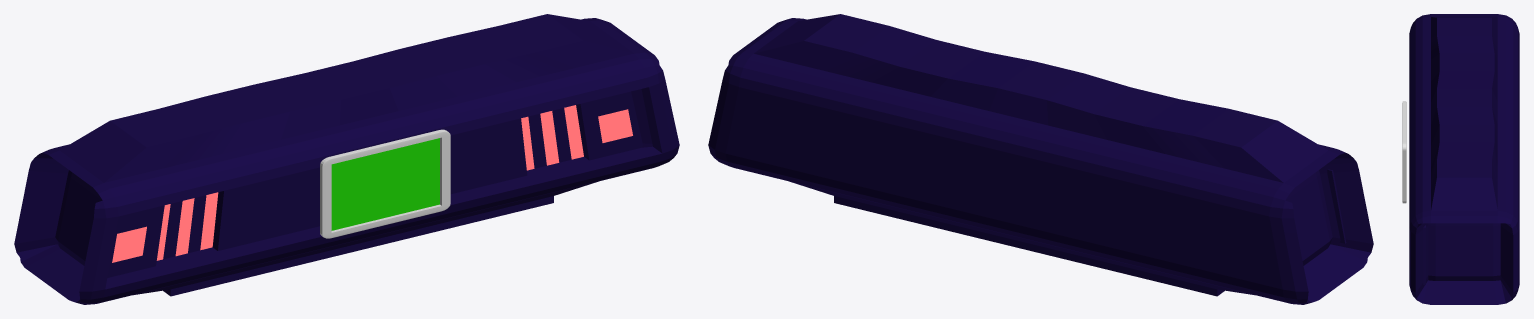
Rendered from paddle.fbx.
3 renders of one model, left to right at view 1: azimuth 30°, elevation 25°; view 2: azimuth 150°, elevation 25°; view 3: azimuth 270°, elevation 25°, orthographic. The views are drawn at different scales.
Parts seen in each view (by area): view 1: Paddle, License Plate; view 2: Paddle; view 3: Paddle, License Plate.
Boxes of the visible parts, bbox=[...] form: Paddle: bbox=[14, 14, 679, 304]; License Plate: bbox=[320, 129, 450, 238]; Paddle: bbox=[708, 14, 1373, 304]; Paddle: bbox=[1409, 14, 1519, 304]; License Plate: bbox=[1402, 101, 1406, 203].
Size of the model in its own units: 544 by 137 by 123.
